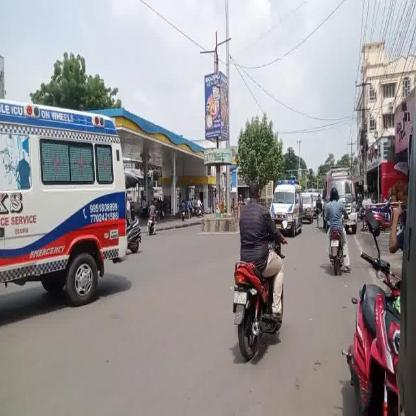priority: (267, 168, 303, 232), (322, 160, 360, 190), (307, 182, 319, 222)
